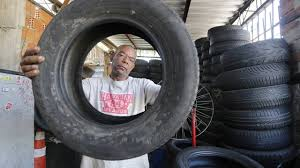tire: (34, 1, 199, 163), (217, 38, 294, 67), (222, 125, 296, 150), (174, 148, 264, 168), (220, 87, 294, 109), (211, 66, 291, 85), (222, 108, 295, 128), (207, 29, 253, 41)
